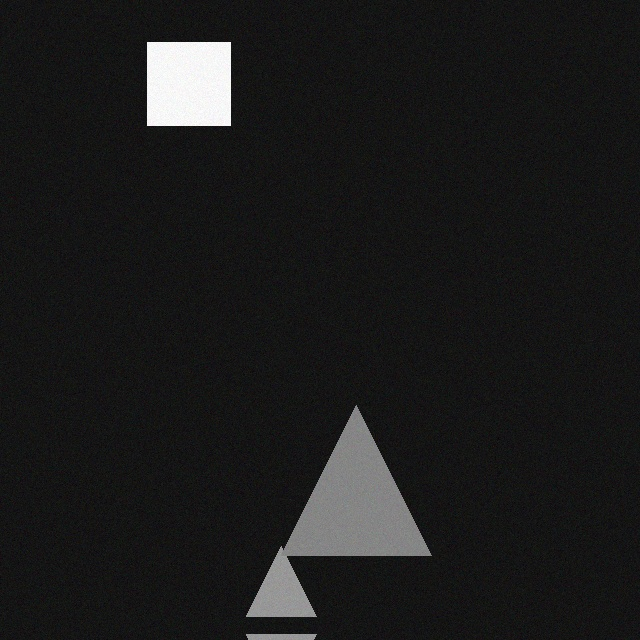square: (151, 56, 234, 139)
triangle: (285, 419, 435, 569), (250, 560, 320, 630)
